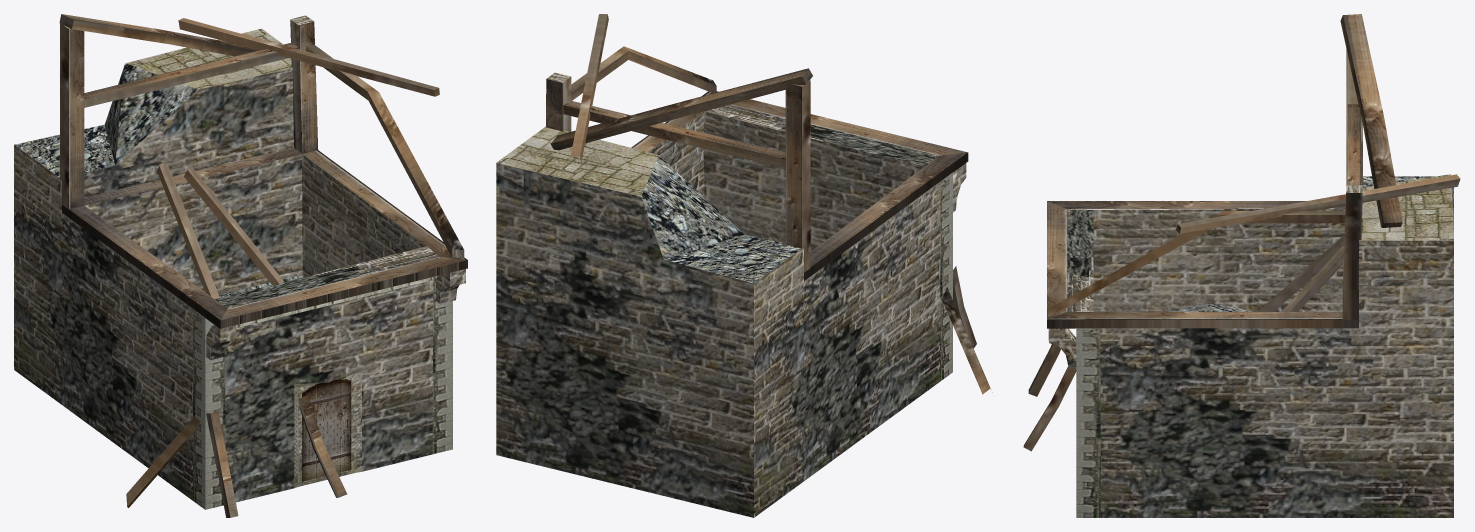
File: building_ruin_07.glb
3 views of the same model, side by side, from view 1: azimuth 30°, elevation 25°; view 2: azimuth 150°, elevation 25°; view 3: azimuth 270°, elevation 25° (orthographic). The views are drawn at different scales.
Parts seen in each view (by area): view 1: building_ruin_07; view 2: building_ruin_07; view 3: building_ruin_07.
Part boxes in pixels (x1,y1,x2,y2): building_ruin_07: [14, 14, 467, 517]; building_ruin_07: [496, 14, 992, 517]; building_ruin_07: [1023, 14, 1460, 517].
Size of the model in its own units: 8.59 by 9.28 by 9.52.
Materials: 6 (6 with a texture image).
